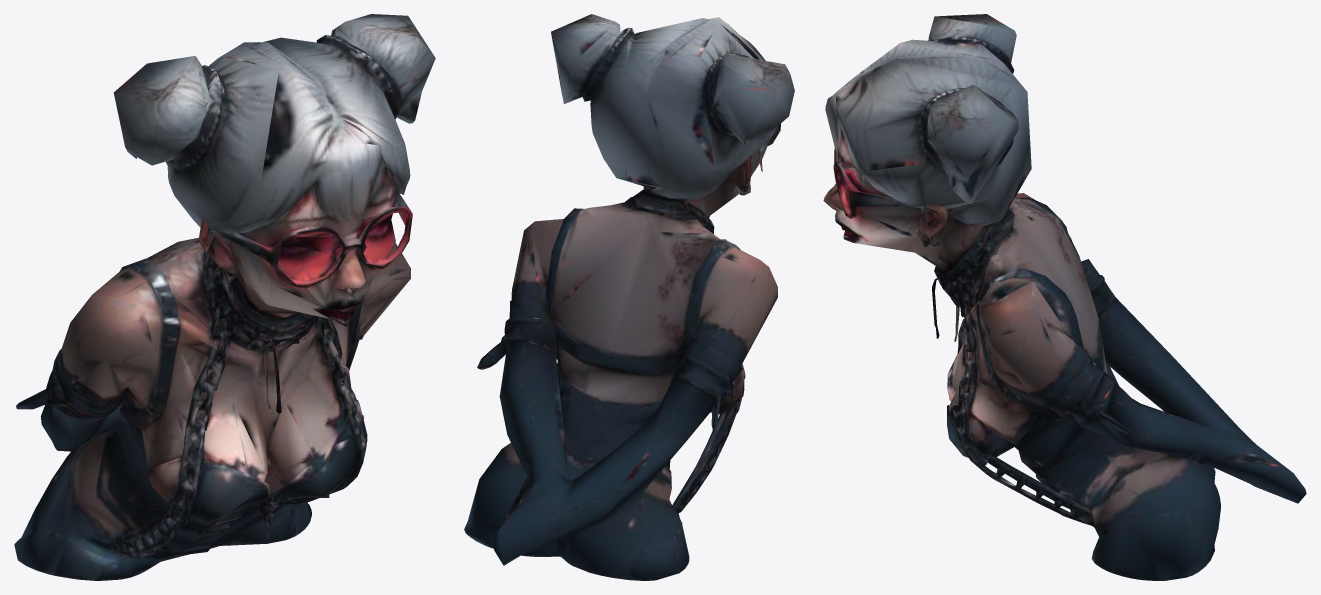
Rendered from 01a19382-8a51-738d-8c90-e4c0fab01ca6.glb.
3 views of the same model, side by side, from view 1: azimuth 30°, elevation 25°; view 2: azimuth 150°, elevation 25°; view 3: azimuth 270°, elevation 25° (orthographic). The views are drawn at different scales.
Visible parts, largest first — view 1: node_0; view 2: node_0; view 3: node_0.
Part boxes in pixels (x1,y1,x2,y2): node_0: (14,14,435,580); node_0: (464,14,794,580); node_0: (823,14,1306,580).
Size of the model in its own units: 0.5462 by 0.9401 by 0.8712.
1 material, 1 textured.
